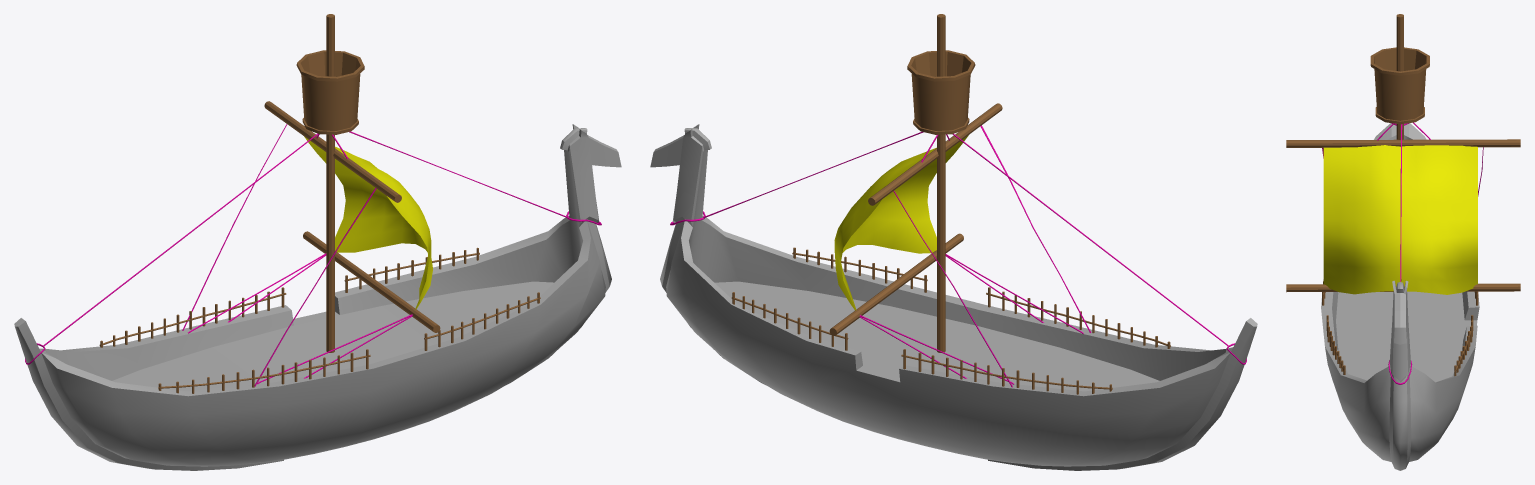
The model's file is Barco3.fbx.
The picture shows the model from 3 angles, left to right: view 1: azimuth 30°, elevation 25°; view 2: azimuth 150°, elevation 25°; view 3: azimuth 270°, elevation 25°; orthographic projection. The views are drawn at different scales.
Visible parts, largest first — view 1: pSphere3, pPlane1, pCylinder14, pCylinder47, pCylinder1, pCylinder2, pCylinder48, polySurface1, pCylinder49, polySurface2; view 2: pSphere3, pPlane1, pCylinder14, pCylinder47, pCylinder1, pCylinder48, pCylinder2, polySurface1, pCylinder49, polySurface2; view 3: pPlane1, pSphere3, pCylinder14, pCylinder2, pCylinder48, pCylinder47, pCylinder1, polySurface1.
Boxes of the visible parts, x1,y1,x2,y2 form: pSphere3: (14, 124, 621, 470); pPlane1: (304, 136, 432, 309); pCylinder14: (296, 50, 364, 134); pCylinder47: (99, 247, 540, 393); pCylinder1: (326, 14, 334, 352); pCylinder2: (264, 101, 401, 202); pCylinder48: (303, 231, 440, 332); polySurface1: (25, 131, 601, 364); pCylinder49: (188, 253, 412, 384); polySurface2: (182, 124, 376, 386); pSphere3: (650, 124, 1257, 470); pPlane1: (834, 135, 968, 310); pCylinder14: (907, 50, 975, 134); pCylinder47: (731, 247, 1170, 394); pCylinder1: (937, 14, 945, 352); pCylinder48: (829, 233, 963, 335); pCylinder2: (868, 103, 1002, 205); polySurface1: (670, 131, 1246, 364); pCylinder49: (859, 254, 1083, 384); polySurface2: (893, 125, 1091, 387); pPlane1: (1323, 145, 1477, 294); pSphere3: (1321, 123, 1479, 470); pCylinder14: (1370, 47, 1429, 124); pCylinder2: (1286, 139, 1520, 147); pCylinder48: (1286, 283, 1520, 292); pCylinder47: (1322, 281, 1478, 376); pCylinder1: (1396, 14, 1403, 139); polySurface1: (1388, 123, 1412, 384).
Bounding box in the file's own units: 167167 × 114146 × 61500.
